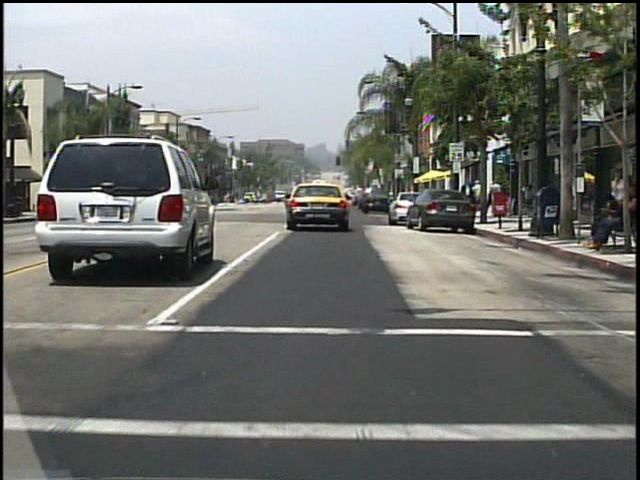person: (576, 195, 620, 253), (460, 179, 475, 219), (474, 179, 486, 216), (493, 183, 505, 218), (485, 184, 497, 217)
